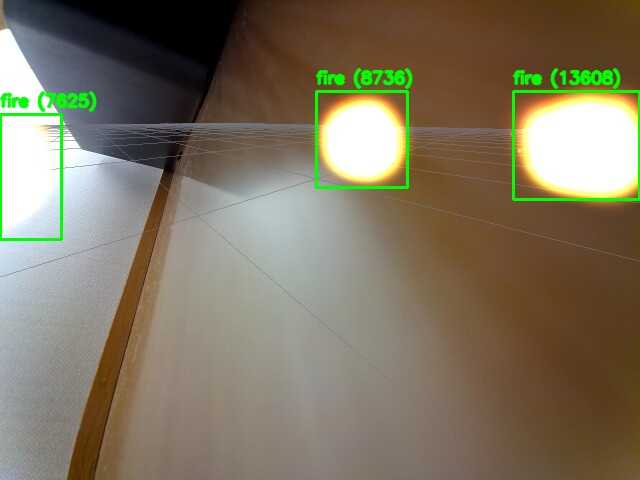fire: (513, 91, 639, 199), (316, 91, 407, 187), (0, 114, 61, 239)
